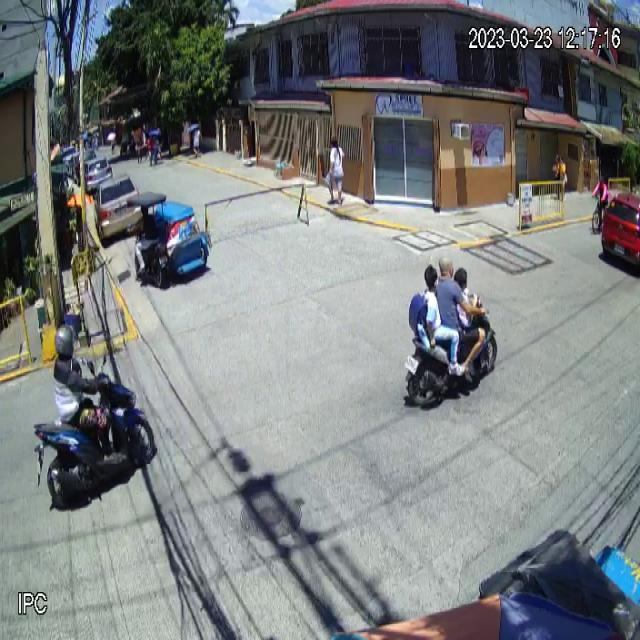Motorcycle: (32, 354, 156, 512)
Tricycle: (125, 191, 208, 288)
